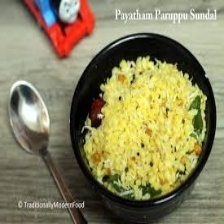rice: (77, 50, 211, 205)
